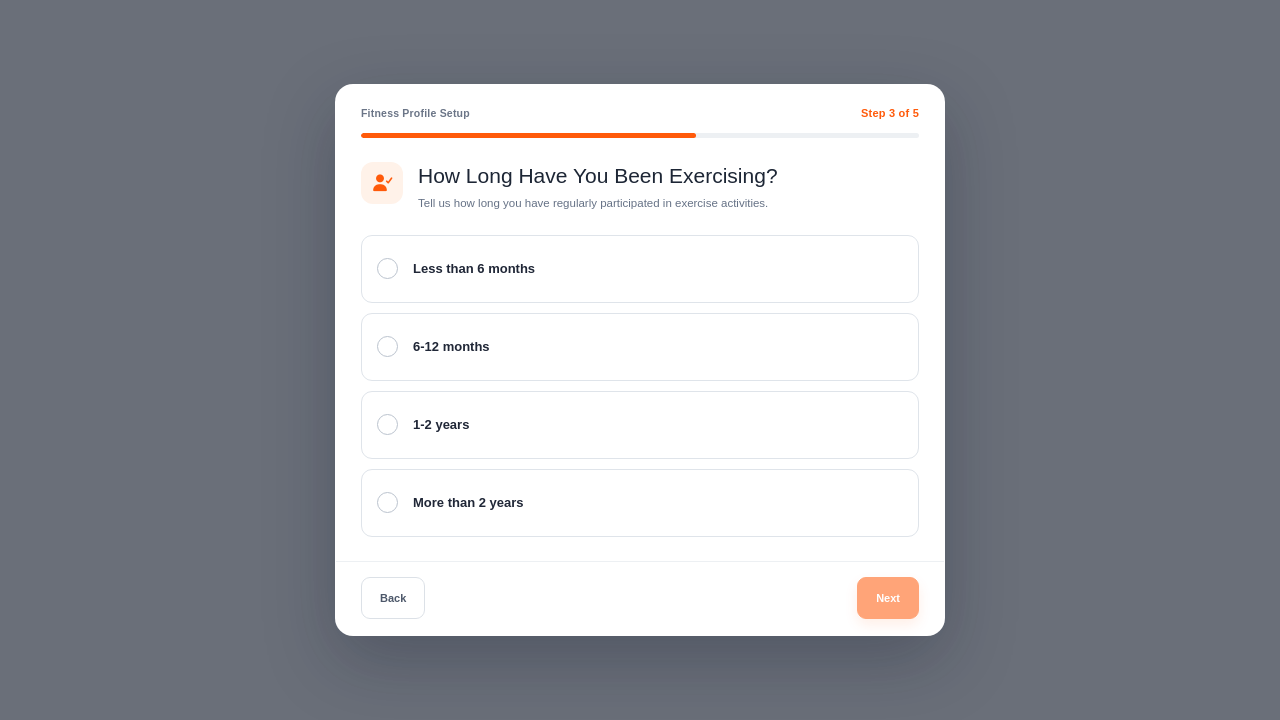
Scenario: shows the optional sixth step for Yes and allows the disclosure to be skipped
Earlier steps of the test are not shown.
Later steps or results of the test are not shown.
What coordinates should you click on to do the following:
click the radio button labelled "1-2 years"
I would click on:
 (441, 425)
Its box is x1=361 y1=391 x2=919 y2=459.
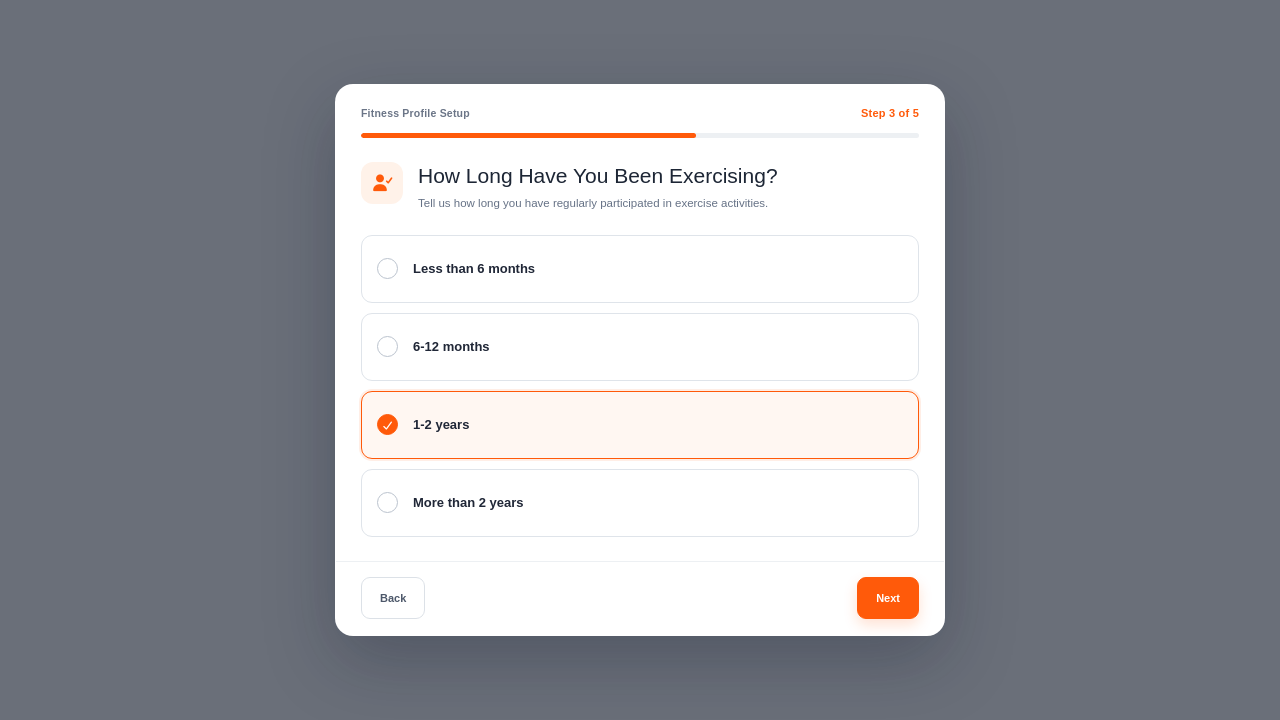
What coordinates should you click on to do the following:
click the button "Next"
I would click on:
 (888, 598)
Its box is x1=857 y1=577 x2=919 y2=619.
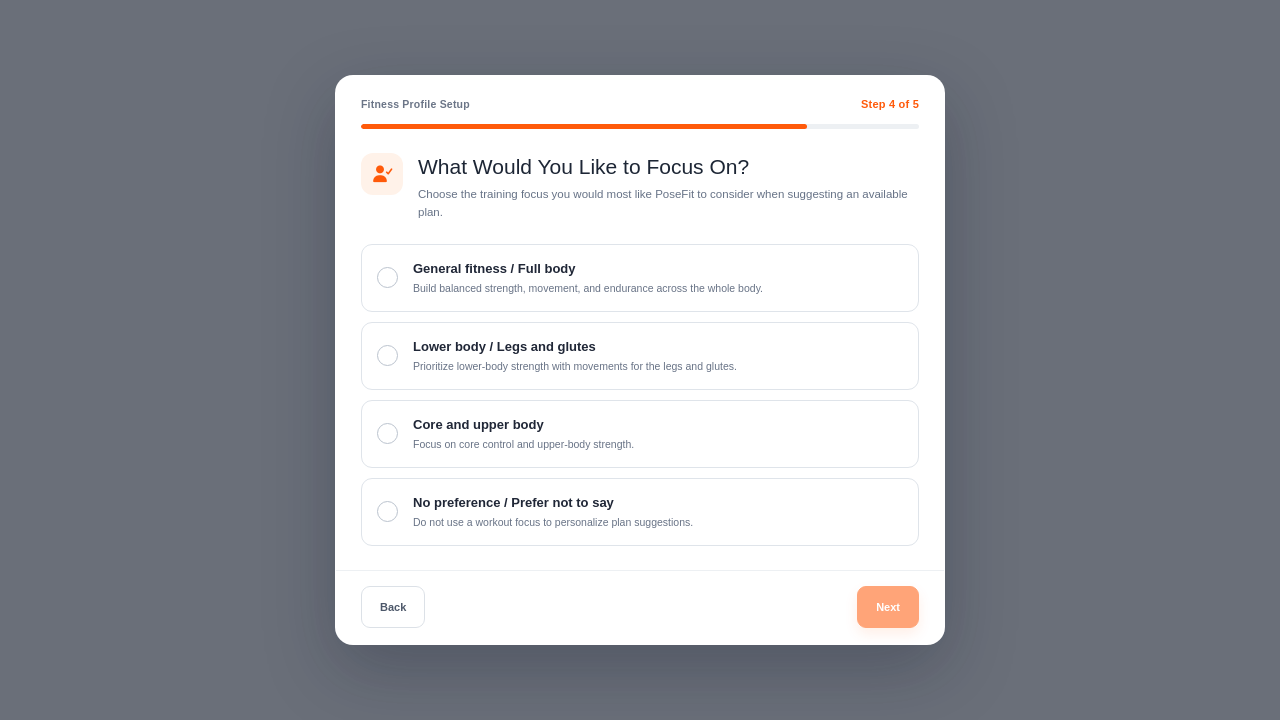
What coordinates should you click on to do the following:
click the radio button labelled "Lower body / Legs and glutes"
I would click on:
 (504, 346)
Its box is x1=361 y1=322 x2=919 y2=390.
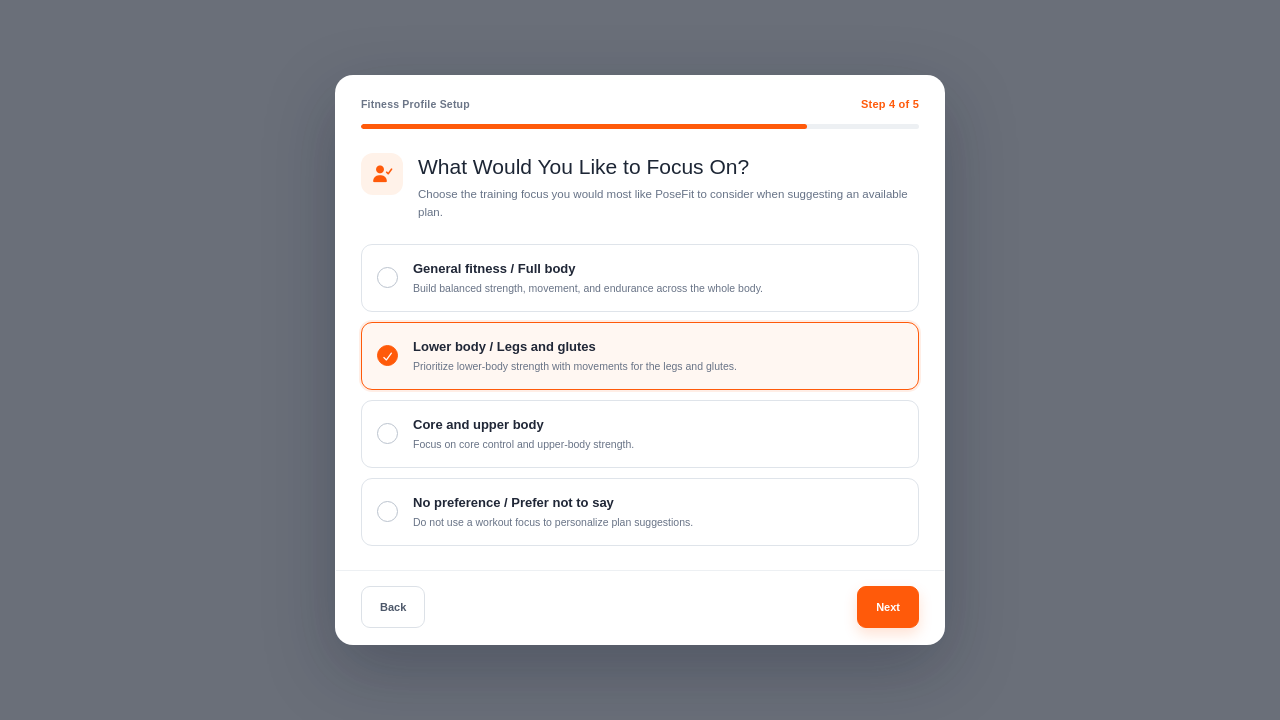
What coordinates should you click on to do the following:
click the button "Next"
I would click on:
 (888, 607)
Its box is x1=857 y1=586 x2=919 y2=628.
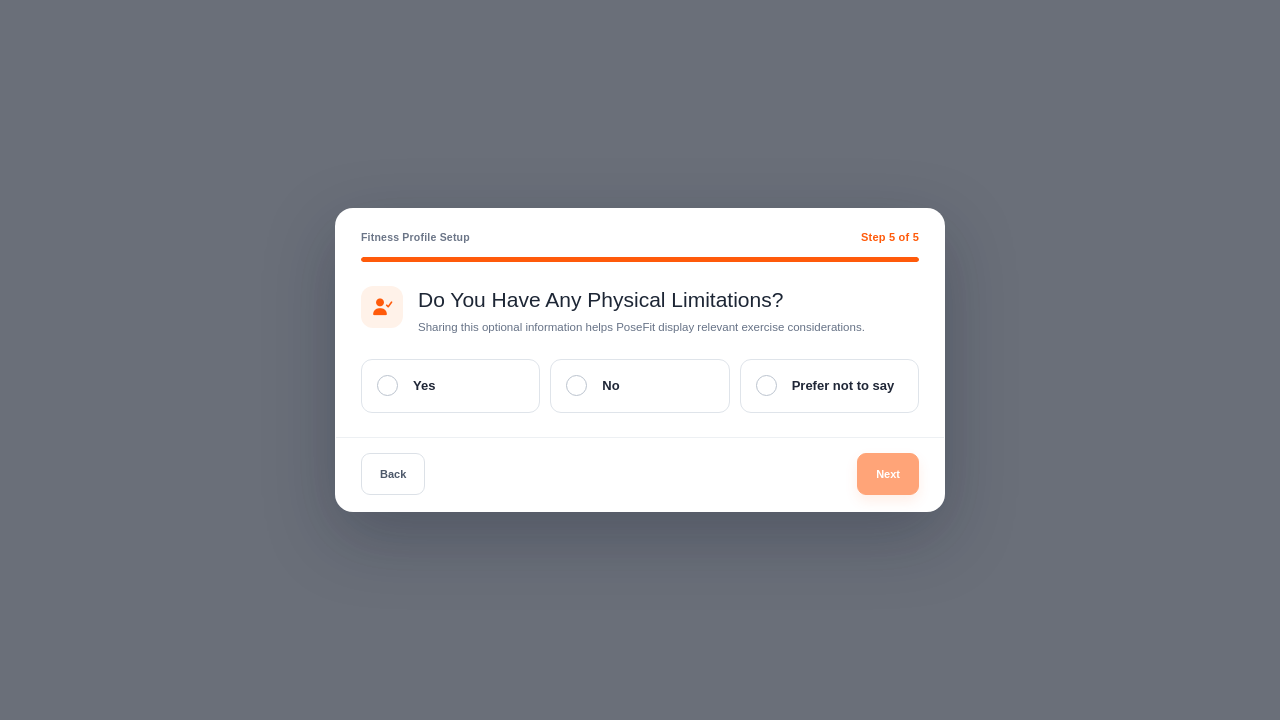
What coordinates should you click on to do the following:
click the radio button labelled "Yes"
I would click on:
 (451, 386)
Its box is x1=361 y1=359 x2=540 y2=413.
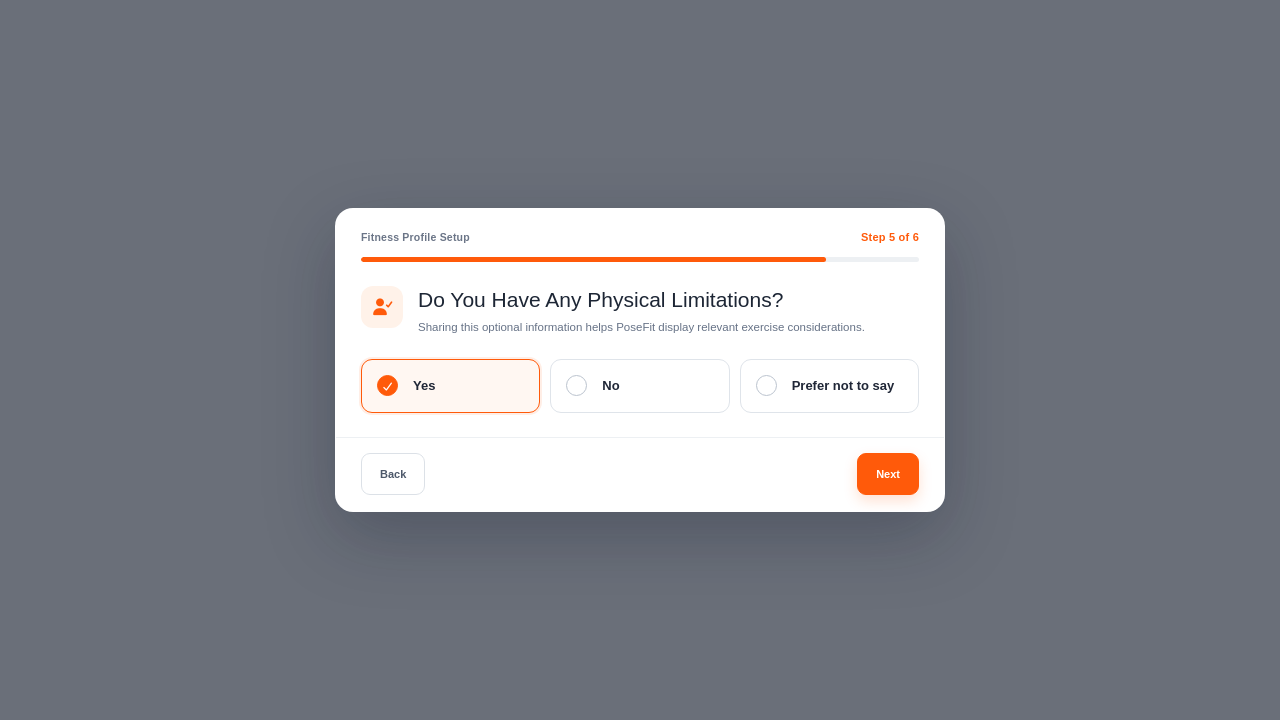
Expected: the text "Step 5 of 6" is shown, x1=861 y1=229 x2=919 y2=246
What coordinates should you click on to do the following:
click the button "Next"
I would click on:
 (888, 474)
Its box is x1=857 y1=453 x2=919 y2=495.
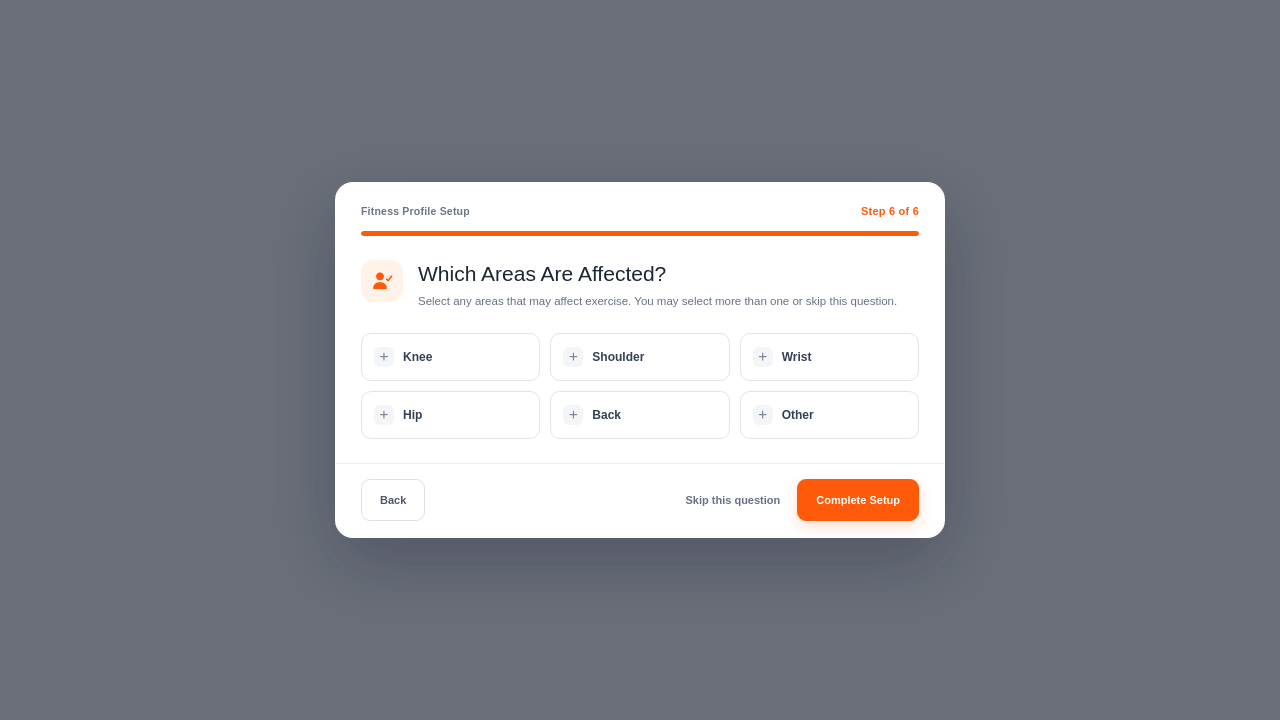
Expected: the heading "Which Areas Are Affected?" is shown, x1=418 y1=262 x2=666 y2=285
